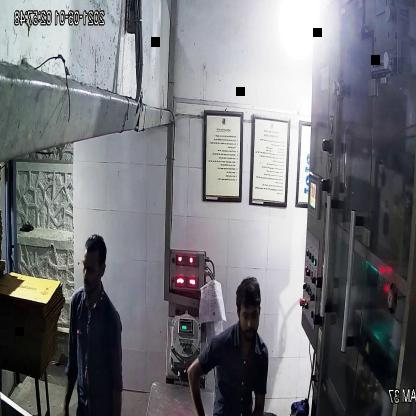no_goggles: (234, 304, 263, 326), (78, 262, 108, 280)
